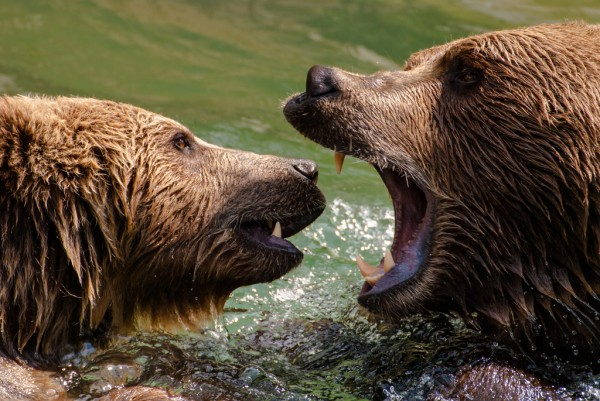bear: (278, 16, 600, 329), (3, 85, 328, 307)
